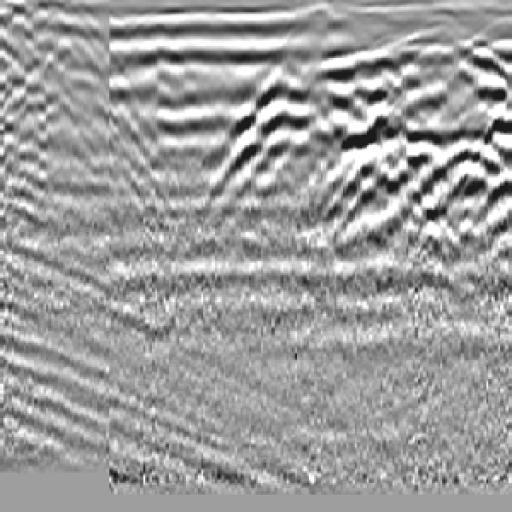metalic: (433, 25, 512, 116)
non-metallic: (342, 56, 512, 261), (187, 70, 331, 209)
